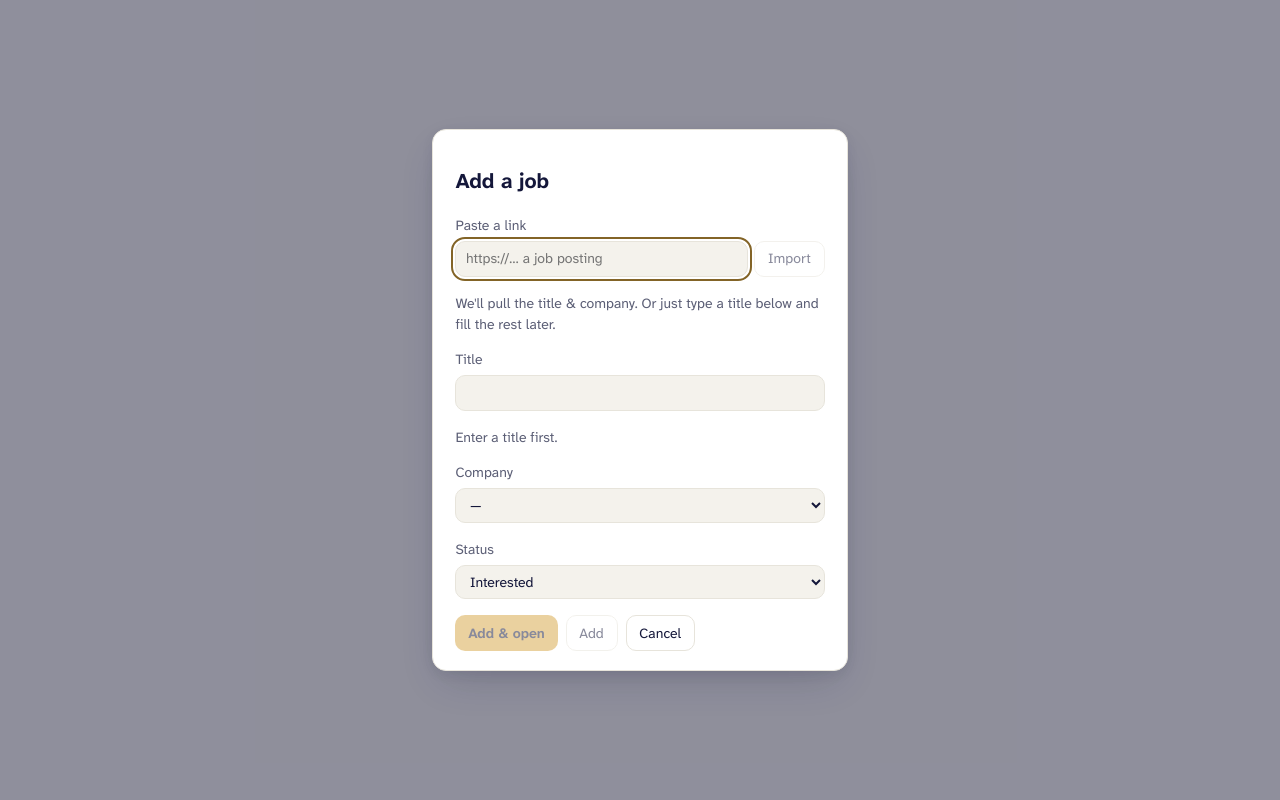
QuickAddDialog › submit buttons stay disabled until a title is entered
Expected: the button "Add & open" is disabled, [455, 615, 558, 651]
Type "Staff Engineer" into the field labelled "Title" at point(640, 393), box [455, 375, 825, 411]
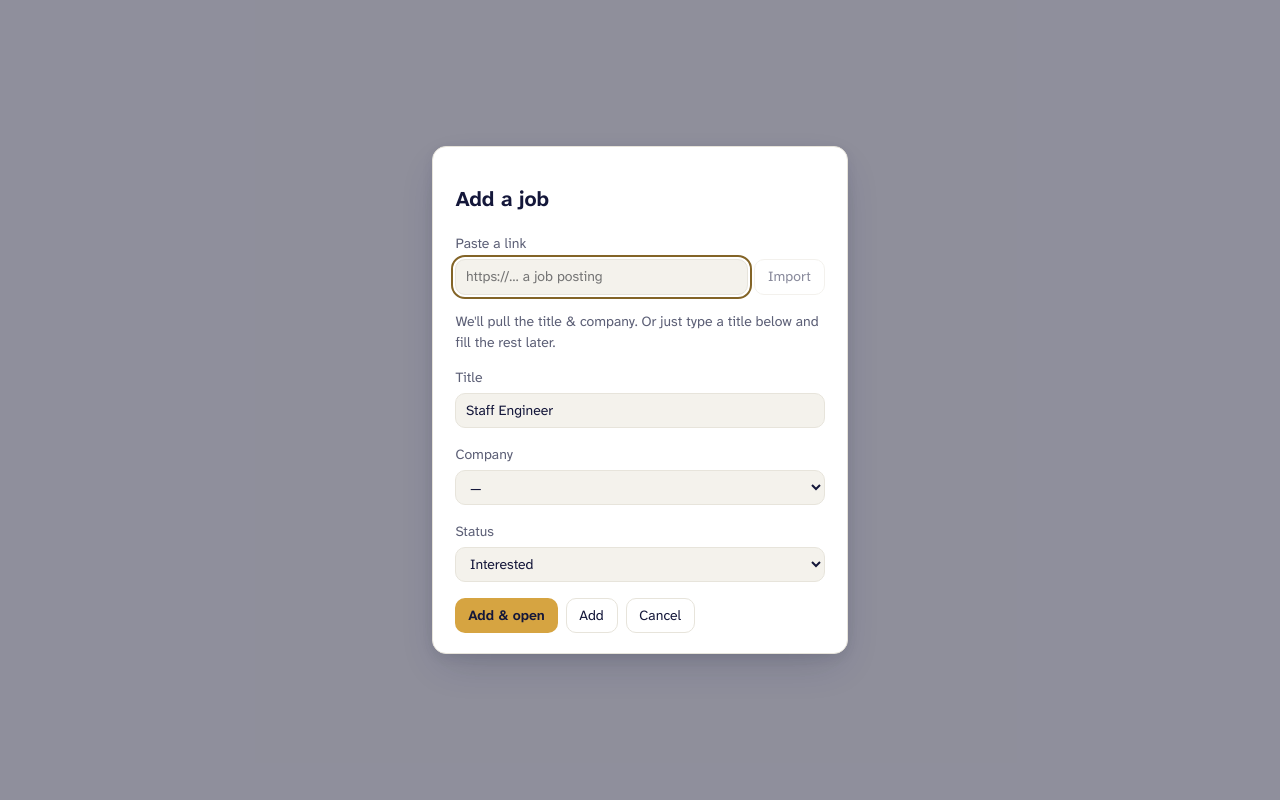
Expected: the button "Add & open" is enabled, [455, 598, 558, 633]
